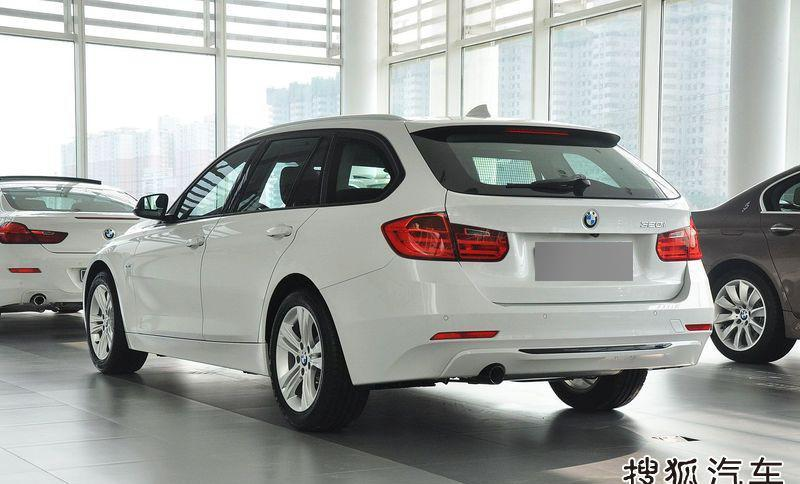Wagon: (81, 102, 716, 433)
